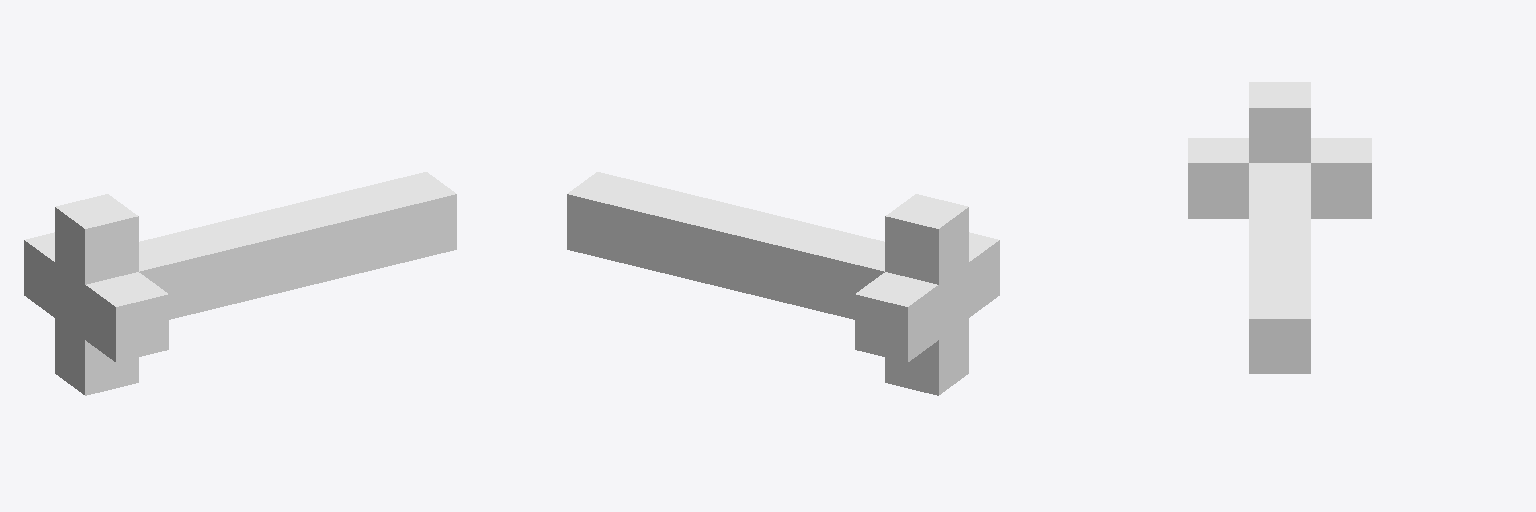
Rendered from handle.obj.
3 renders of one model, left to right at view 1: azimuth 30°, elevation 25°; view 2: azimuth 150°, elevation 25°; view 3: azimuth 270°, elevation 25°, orthographic.
Visible parts, largest first — view 1: object 1; view 2: object 1; view 3: object 1.
Boxes of the visible parts, x1,y1,x2,y2 form: object 1: [24, 172, 456, 395]; object 1: [567, 172, 999, 395]; object 1: [1188, 82, 1371, 373].
Size of the model in its own units: 0.7 by 0.3 by 0.3.